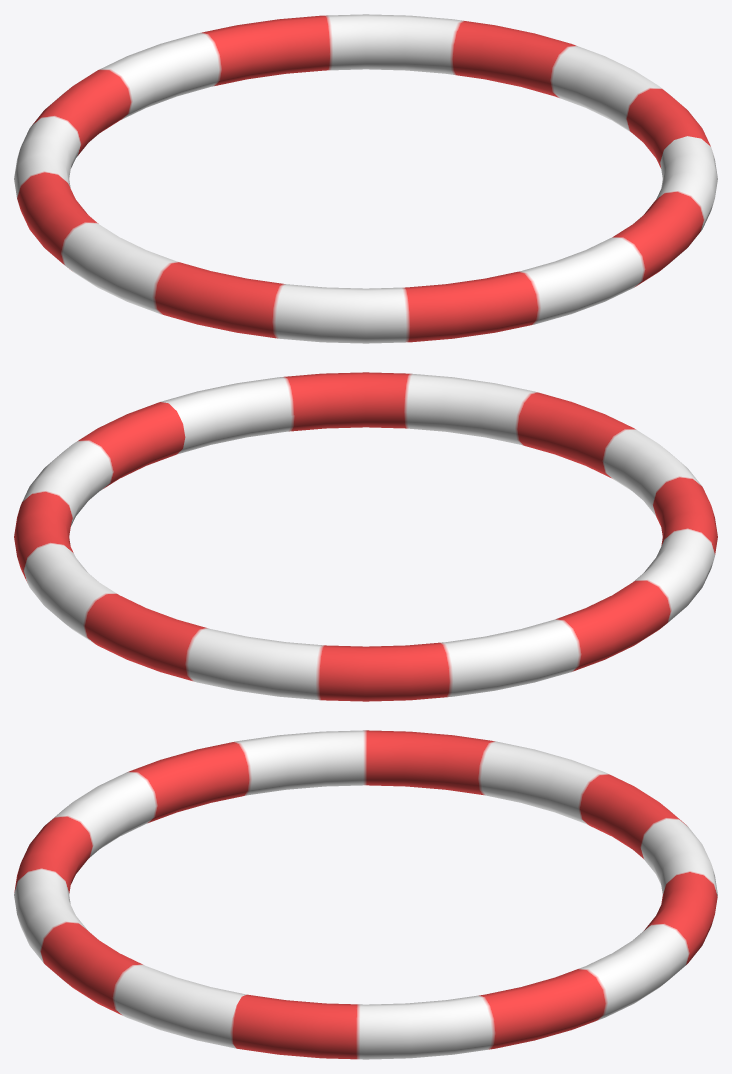
Rendered from JumpRing.fbx.
3 renders of one model, top to bottom at view 1: azimuth 30°, elevation 25°; view 2: azimuth 150°, elevation 25°; view 3: azimuth 270°, elevation 25°, orthographic.
Visible parts, largest first — view 1: Torus; view 2: Torus; view 3: Torus.
Part boxes in pixels (<box>): Torus: <box>14,14,717,343</box>; Torus: <box>14,372,717,701</box>; Torus: <box>14,730,717,1059</box>.
Size of the model in its own units: 306 by 24 by 306.
